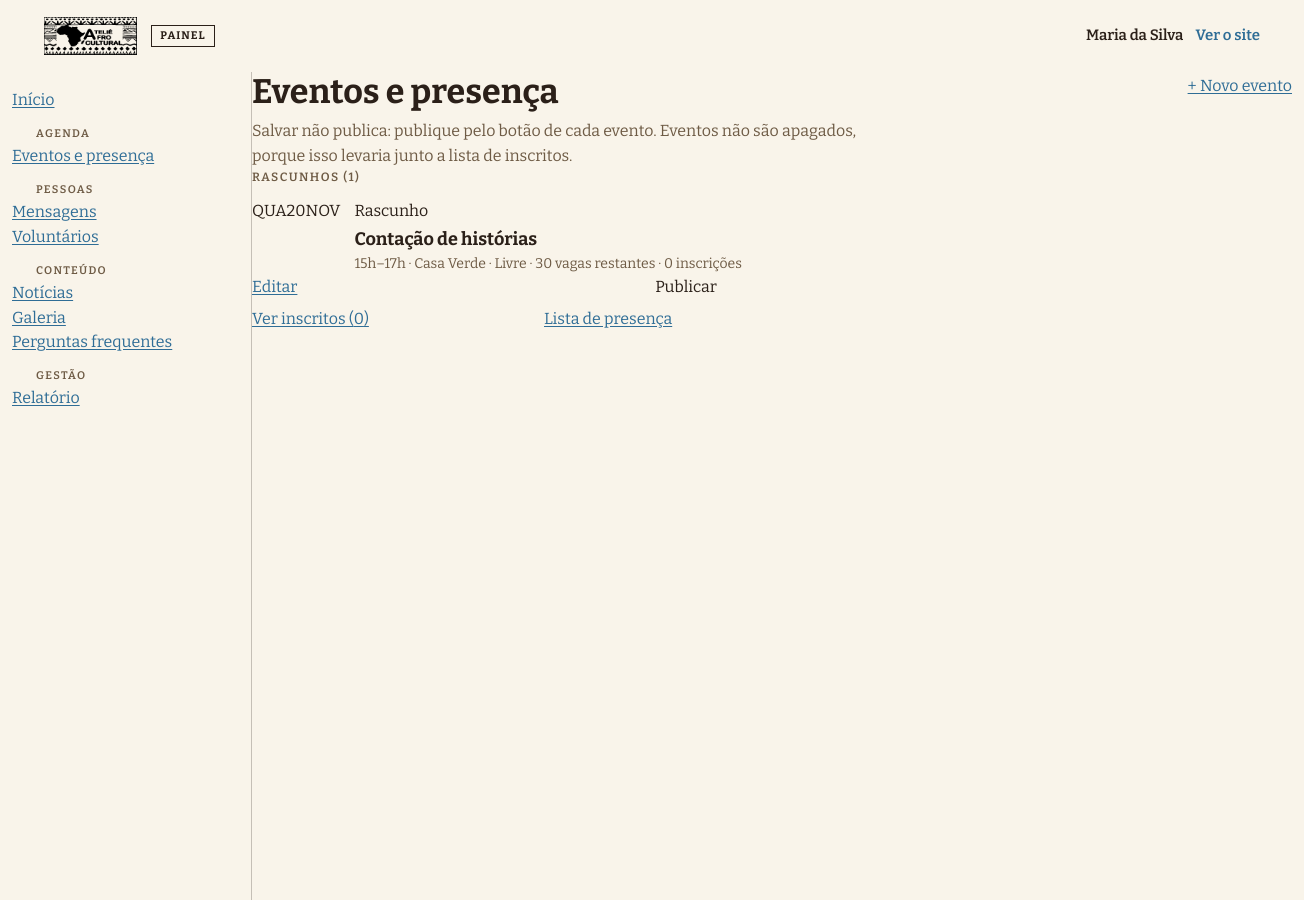
Test: the list of events › does not pretend it worked when publishing fails
This screenshot has width=1304, height=900.
Click the button "Publicar".
click(686, 287)  # box [544,275,828,299]
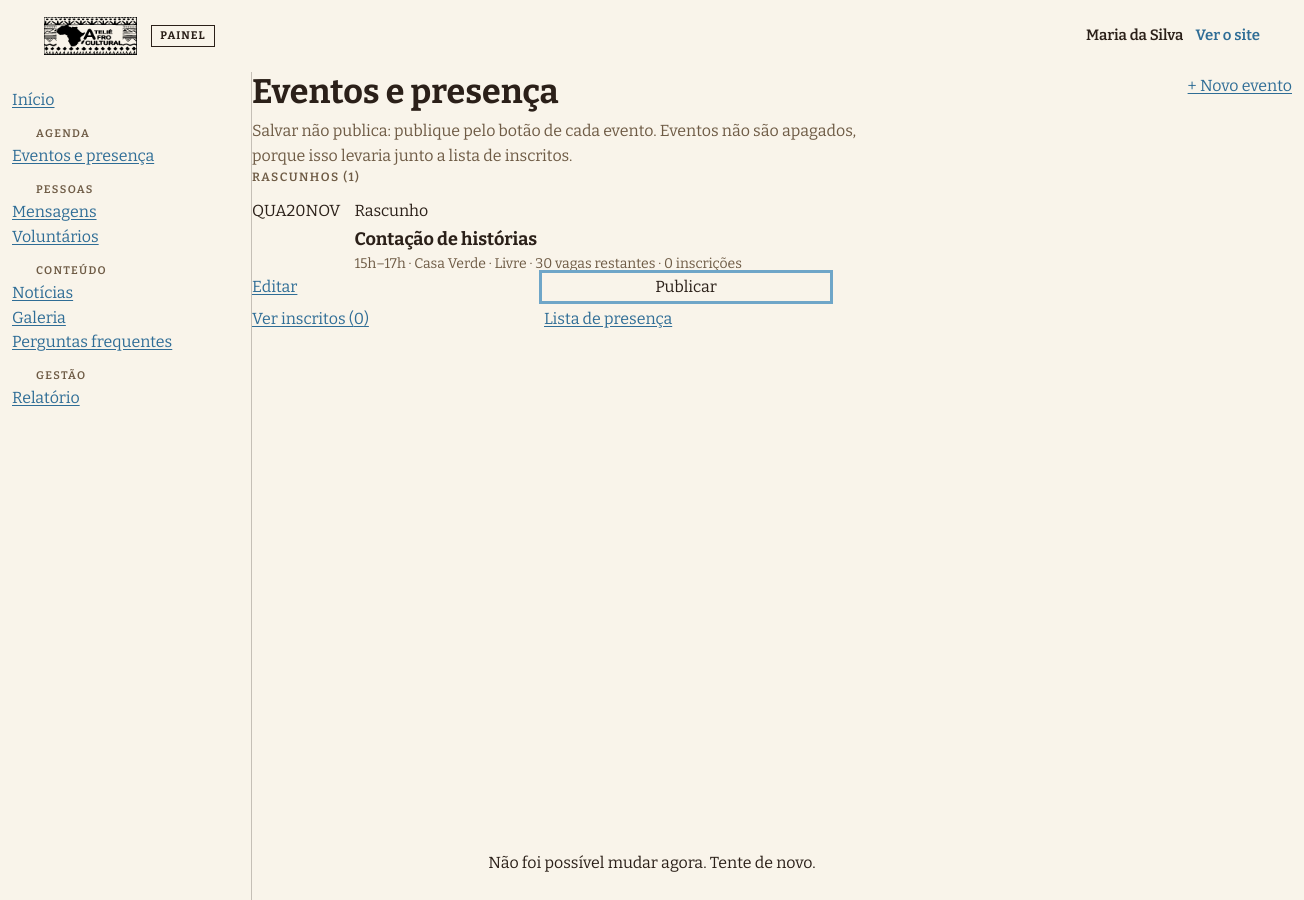
expect the text "Não foi possível mudar agora. Tente de novo." is shown: met, box [488,853,816,872]
